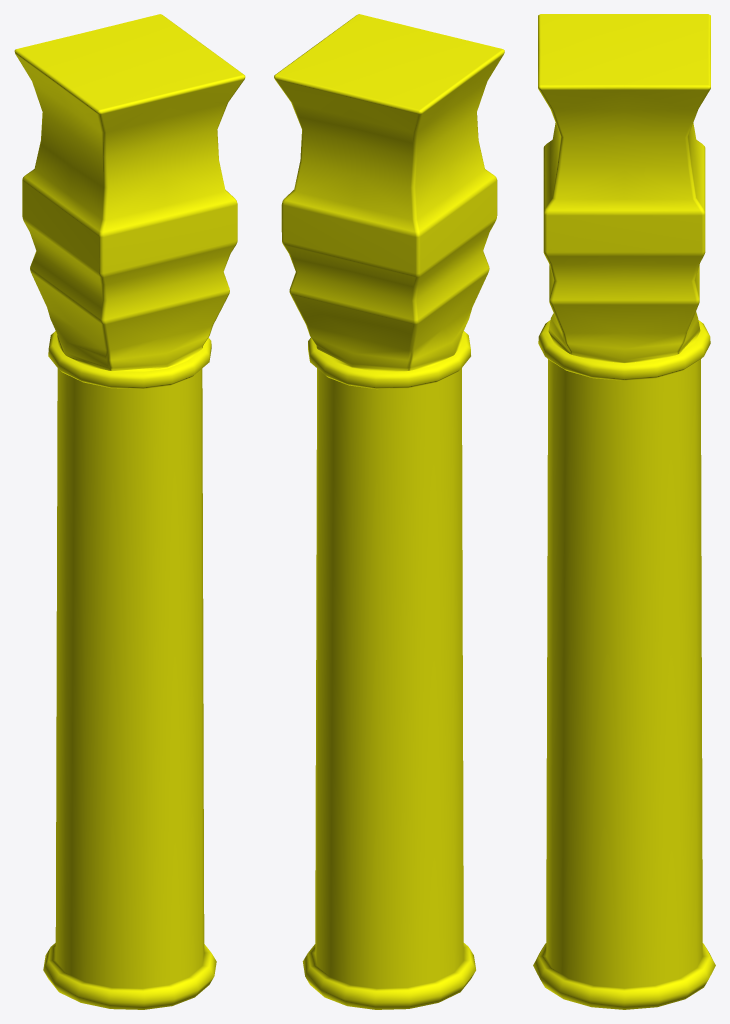
The model's file is Column01.fbx.
3 renders of one model, left to right at view 1: azimuth 30°, elevation 25°; view 2: azimuth 150°, elevation 25°; view 3: azimuth 270°, elevation 25°, orthographic.
Parts seen in each view (by area): view 1: Column01; view 2: Column01; view 3: Column01.
Part boxes in pixels (x1,y1,x2,y2): Column01: (14,14,245,1009); Column01: (274,14,504,1009); Column01: (533,14,715,1009).
Bounding box in the file's own units: 3.86 × 22.34 × 4.
